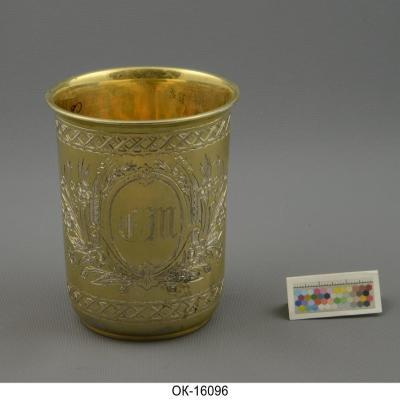dpi: (44, 67, 240, 343)
